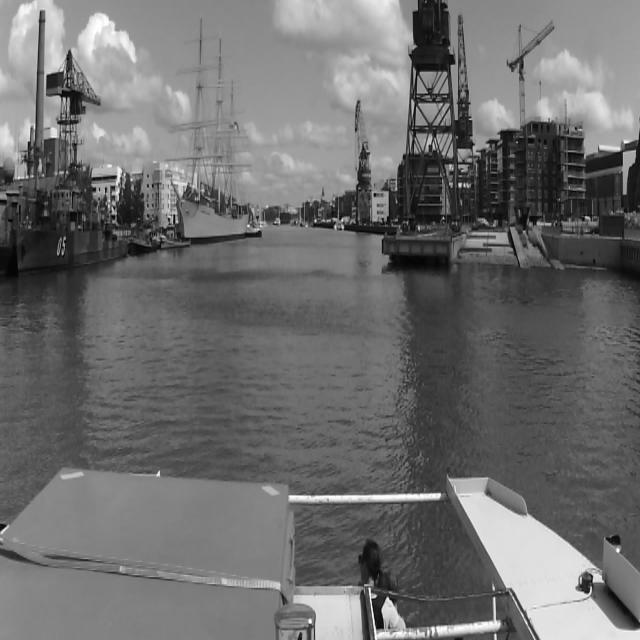ship: (15, 135, 127, 280), (180, 16, 250, 238), (127, 222, 153, 255), (160, 216, 180, 250), (334, 194, 344, 231), (245, 224, 262, 236), (276, 218, 280, 226)
